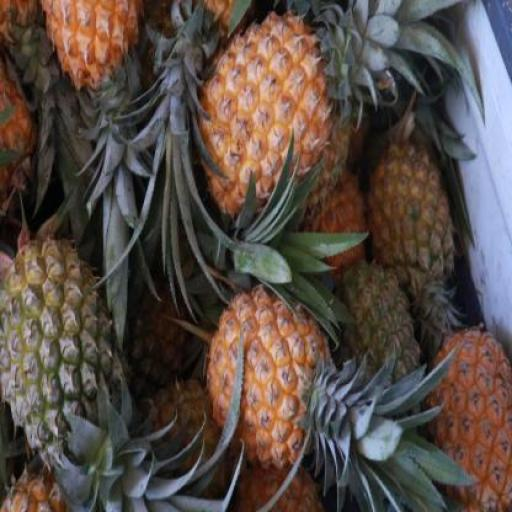------------------------------: (0, 246, 134, 475), (366, 130, 454, 303)
Pineapple - v8 v1: (198, 20, 347, 215), (204, 284, 326, 468), (428, 330, 511, 511)
